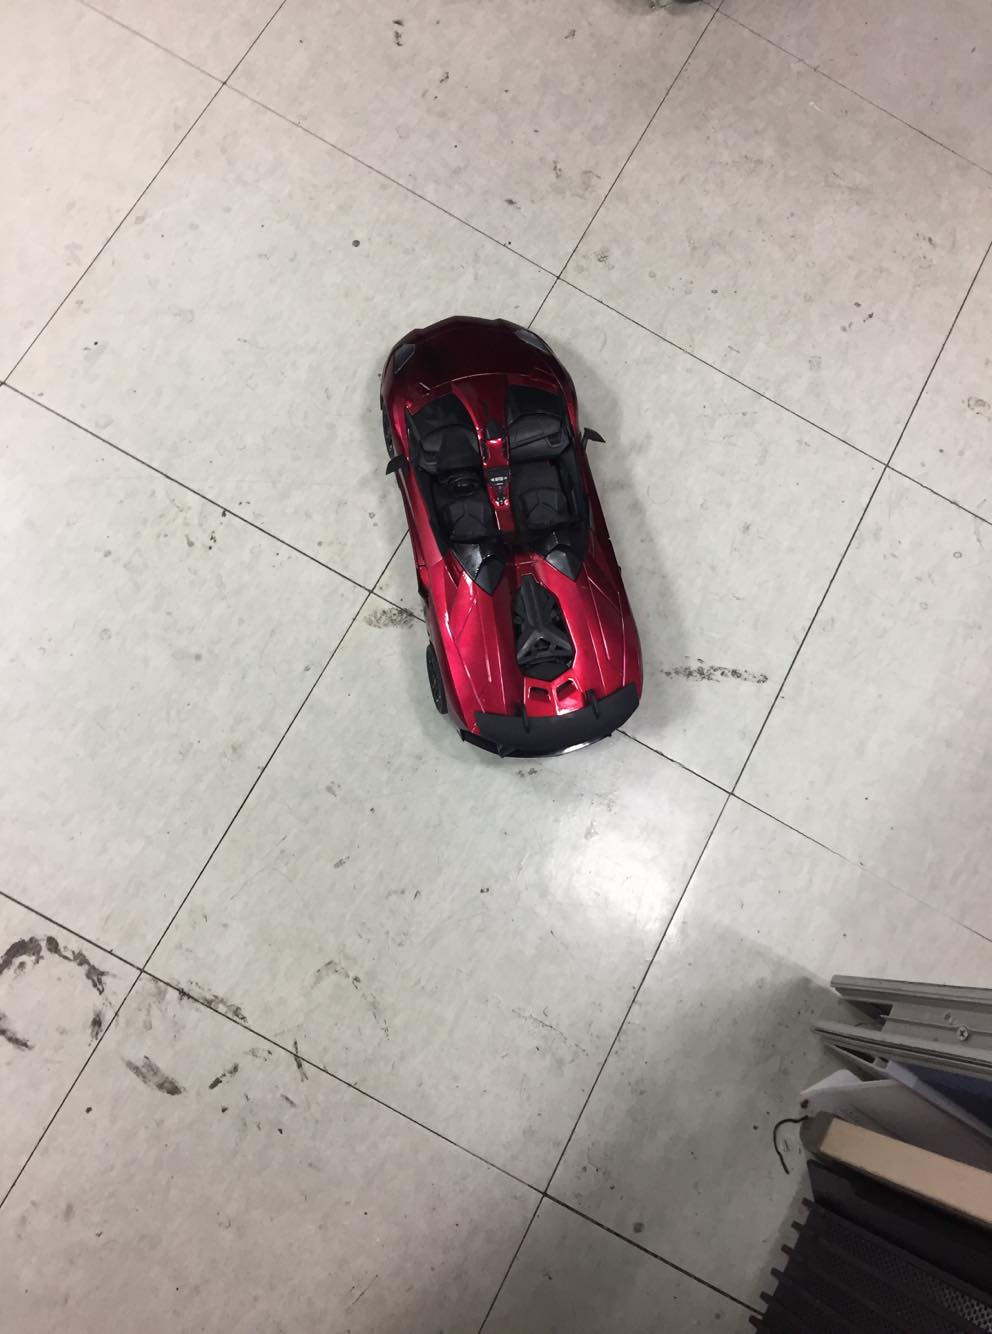car: (348, 307, 643, 769)
